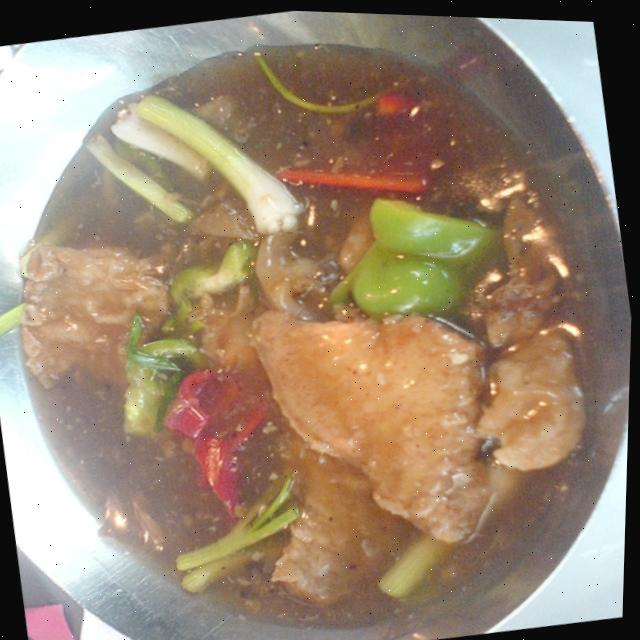面条主食: (0, 6, 627, 638)
